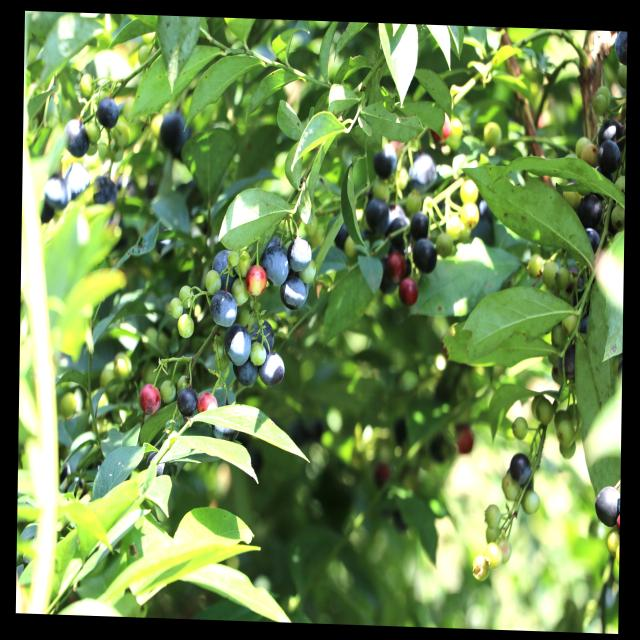blueberry: (158, 112, 190, 154), (88, 171, 120, 210), (407, 152, 437, 193), (224, 322, 252, 365), (62, 116, 91, 156), (211, 246, 238, 288), (44, 170, 71, 212), (593, 487, 620, 528), (258, 348, 286, 387), (261, 245, 288, 285), (210, 289, 238, 326), (280, 274, 308, 309), (412, 237, 437, 274), (66, 160, 90, 198), (145, 449, 173, 480), (288, 237, 312, 273), (230, 358, 258, 388), (96, 95, 120, 129), (374, 144, 396, 181), (366, 198, 388, 233), (509, 450, 533, 482), (250, 318, 274, 350), (596, 142, 620, 173), (597, 120, 624, 147), (559, 345, 579, 381), (579, 193, 601, 225), (176, 386, 197, 417), (212, 422, 240, 443), (612, 31, 627, 68), (410, 212, 429, 241), (586, 229, 602, 255)
blueberry-halfripe: (139, 380, 162, 416), (245, 263, 268, 297), (431, 110, 453, 142), (398, 276, 419, 306), (197, 390, 218, 418), (386, 252, 406, 280)
blueberry-unripe: (110, 118, 131, 146), (521, 488, 540, 518), (59, 390, 79, 418), (233, 248, 252, 277), (176, 313, 195, 342), (204, 265, 222, 295), (299, 256, 318, 284), (472, 553, 490, 582), (534, 398, 554, 424), (460, 204, 480, 230), (231, 276, 247, 308), (556, 420, 576, 445), (511, 415, 530, 441), (459, 180, 478, 206), (498, 538, 514, 568), (115, 352, 133, 378), (485, 541, 502, 568), (482, 121, 501, 145), (605, 528, 620, 558), (484, 502, 502, 527), (581, 140, 599, 165), (502, 474, 519, 500), (178, 285, 195, 310), (527, 253, 543, 278), (169, 293, 184, 319), (542, 260, 558, 284), (79, 72, 94, 97), (161, 379, 176, 404), (558, 442, 578, 460), (554, 266, 571, 287), (108, 142, 124, 163), (486, 525, 502, 544), (88, 122, 102, 140)
